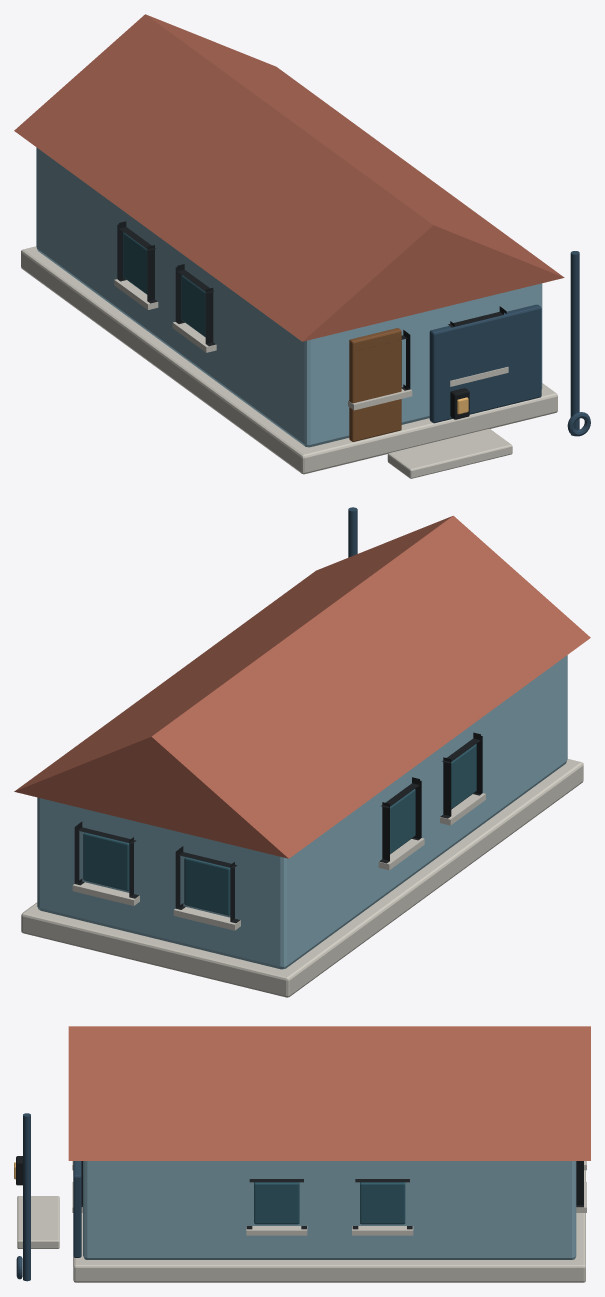
Rendered from RES_LOW_1x2_006.glb.
3 renders of one model, top to bottom at view 1: azimuth 30°, elevation 25°; view 2: azimuth 150°, elevation 25°; view 3: azimuth 270°, elevation 25°, orthographic. The views are drawn at different scales.
Parts seen in each view (by area): view 1: RES_LOW_1x2_006_Visual; view 2: RES_LOW_1x2_006_Visual; view 3: RES_LOW_1x2_006_Visual.
Boxes of the visible parts, bbox=[...] form: RES_LOW_1x2_006_Visual: bbox=[14, 14, 590, 478]; RES_LOW_1x2_006_Visual: bbox=[14, 507, 590, 997]; RES_LOW_1x2_006_Visual: bbox=[14, 1026, 590, 1282].
Size of what is drawn, in the model's own units: 1.69 by 1.36 by 3.55.
